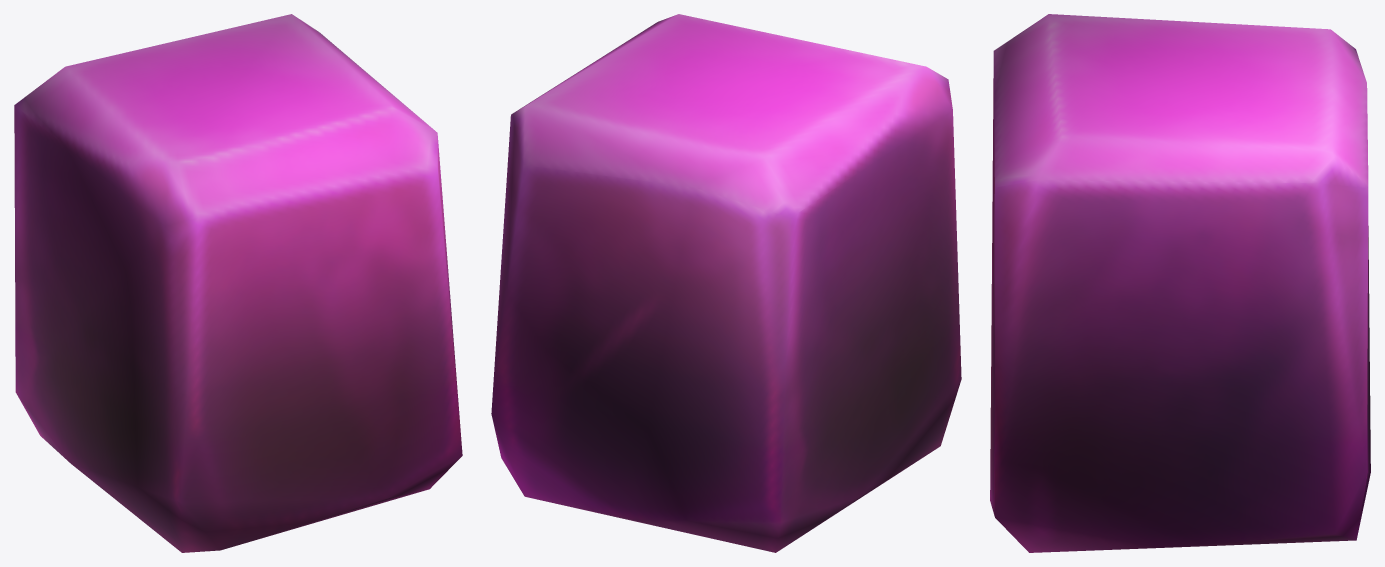
Rendered from SM_Gem_Kunzite_Piece_001.fbx.
The picture shows the model from 3 angles, left to right: view 1: azimuth 30°, elevation 25°; view 2: azimuth 150°, elevation 25°; view 3: azimuth 270°, elevation 25°; orthographic projection. The views are drawn at different scales.
Visible parts, largest first — view 1: SM_Gem_Kunzite_Piece_001; view 2: SM_Gem_Kunzite_Piece_001; view 3: SM_Gem_Kunzite_Piece_001.
Part boxes in pixels (box(x1,y1,x2,y2)): SM_Gem_Kunzite_Piece_001: box(14, 14, 462, 552); SM_Gem_Kunzite_Piece_001: box(491, 14, 961, 552); SM_Gem_Kunzite_Piece_001: box(990, 14, 1370, 552).
Bounding box in the file's own units: 11.21 × 13.72 × 11.66.
